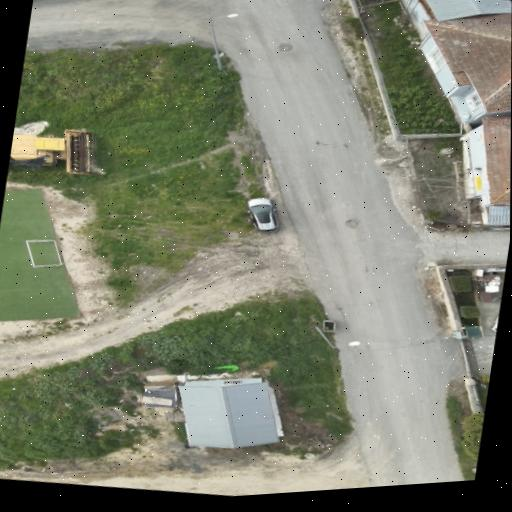car: (247, 199, 277, 233), (491, 316, 497, 332)
harvester: (9, 130, 94, 174)
